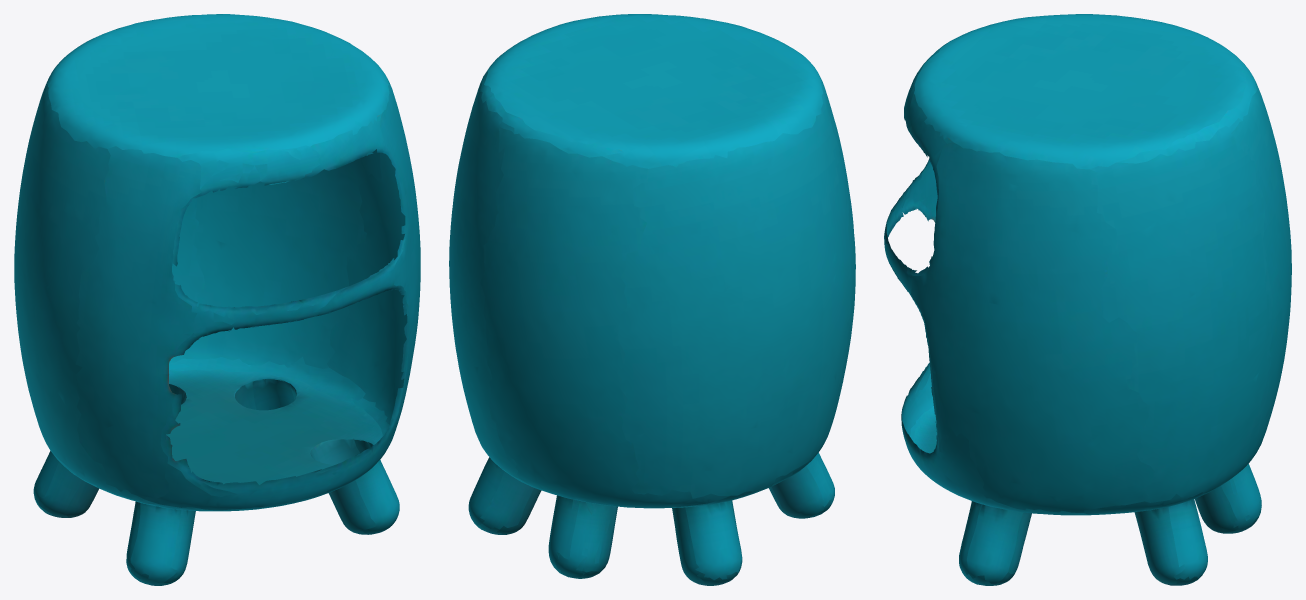
Rendered from body.glb.
3 renders of one model, left to right at view 1: azimuth 30°, elevation 25°; view 2: azimuth 150°, elevation 25°; view 3: azimuth 270°, elevation 25°, orthographic.
Visible parts, largest first — view 1: geometry_0; view 2: geometry_0; view 3: geometry_0.
Part boxes in pixels (x1,y1,x2,y2): geometry_0: (14,14,420,585); geometry_0: (449,14,855,585); geometry_0: (884,14,1291,585).
Bounding box in the file's own units: 0.4619 × 0.55 × 0.4538.
Materials: 1 (1 with a texture image).
